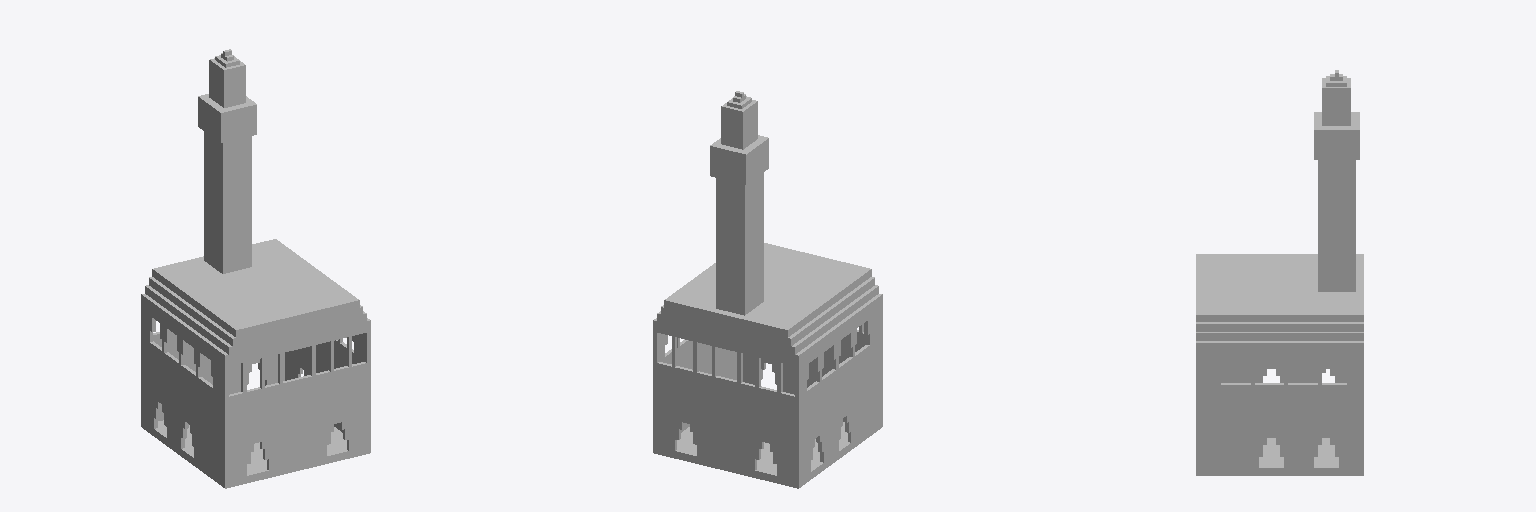
Rendered from sulejman pasha mosque.obj.
3 views of the same model, side by side, from view 1: azimuth 30°, elevation 25°; view 2: azimuth 150°, elevation 25°; view 3: azimuth 270°, elevation 25° (orthographic).
Parts seen in each view (by area): view 1: object 1; view 2: object 1; view 3: object 1.
Boxes of the visible parts, x1=… form: object 1: x1=141, y1=49, x2=370, y2=488; object 1: x1=653, y1=91, x2=882, y2=488; object 1: x1=1196, y1=70, x2=1363, y2=475.
Size of the model in its own units: 4 by 9.7 by 4.